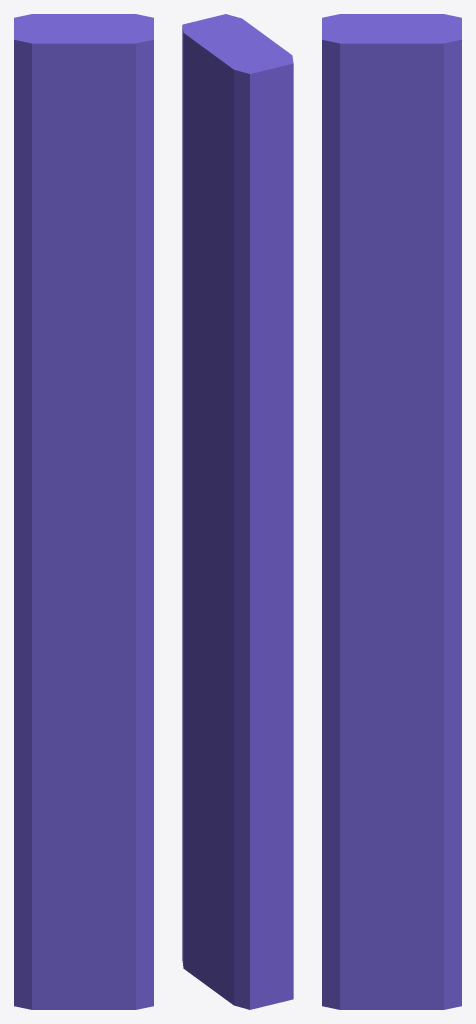
File: Pillar_Small_NoTop.fbx
The picture shows the model from 3 angles, left to right: view 1: azimuth 90°, elevation 25°; view 2: azimuth 210°, elevation 25°; view 3: azimuth 270°, elevation 25°; orthographic projection. The views are drawn at different scales.
Visible parts, largest first — view 1: Pillar_Small_NoTop; view 2: Pillar_Small_NoTop; view 3: Pillar_Small_NoTop.
Part boxes in pixels (x1,y1,x2,y2): Pillar_Small_NoTop: (14,14,153,1009); Pillar_Small_NoTop: (182,14,293,1009); Pillar_Small_NoTop: (322,14,461,1009).
Size of the model in its own units: 200 by 3051 by 400.
